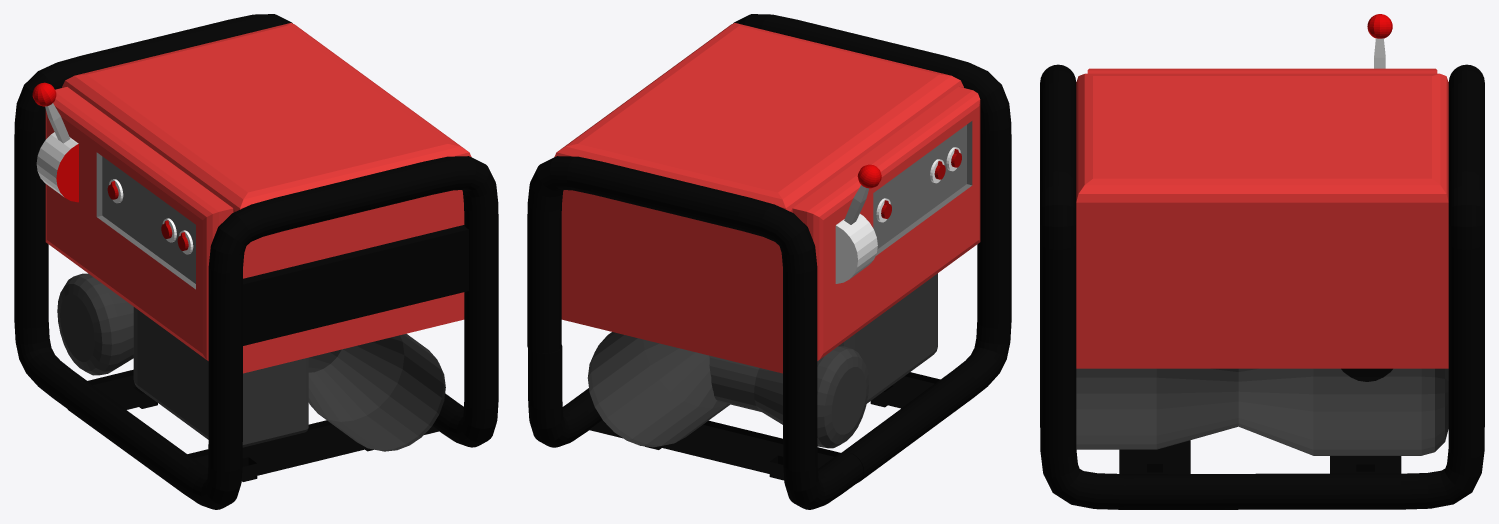
Rendered from Generator.fbx.
The picture shows the model from 3 angles, left to right: view 1: azimuth 30°, elevation 25°; view 2: azimuth 150°, elevation 25°; view 3: azimuth 270°, elevation 25°; orthographic projection. The views are drawn at different scales.
Visible parts, largest first — view 1: Cube, Cylinder.009; view 2: Cube, Cylinder.009; view 3: Cube, Cylinder.009.
Part boxes in pixels (left/top/right/bottom): Cube: left=14, top=14, right=498, bottom=509; Cylinder.009: left=32, top=82, right=78, bottom=202; Cube: left=527, top=14, right=1011, bottom=509; Cylinder.009: left=835, top=164, right=881, bottom=283; Cube: left=1040, top=64, right=1484, bottom=509; Cylinder.009: left=1367, top=14, right=1392, bottom=68.
Bounding box in the file's own units: 82.87 × 86.64 × 98.08.
